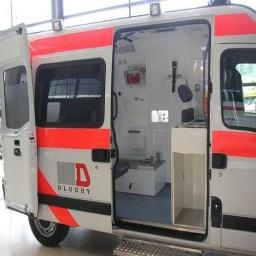ambulance: (0, 4, 255, 253)
